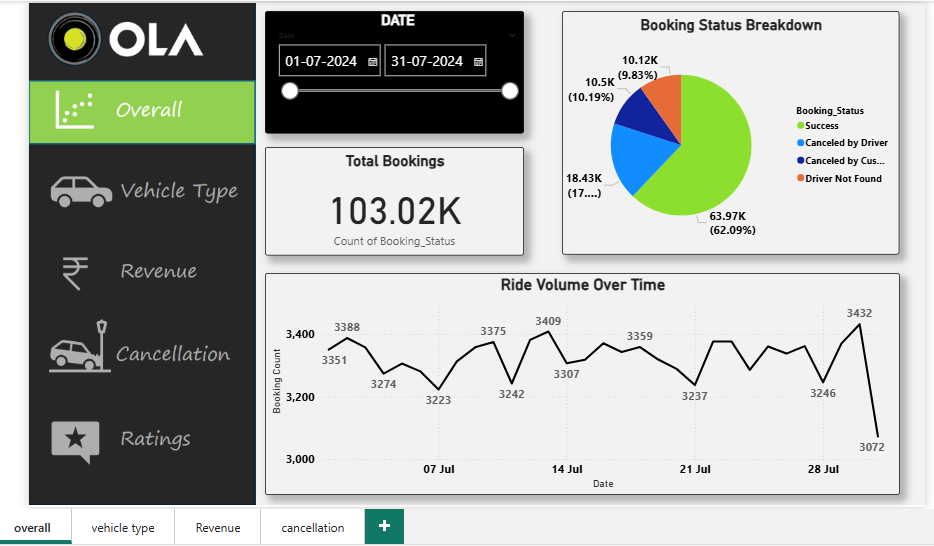

What the dashboard file says about the page in this screenshot:
{"tool":"powerbi","page":{"name":"overall","canvas":[1280,720],"ordinal":0},"visuals":[{"type":"actionButton","box":[0,221.1,323.1,92.1],"z":0},{"type":"actionButton","box":[0,338.7,323.1,92.1],"z":1000},{"type":"actionButton","box":[0,459.2,323.1,92.1],"z":2000},{"type":"actionButton","box":[0,581.1,323.1,92.1],"z":3000},{"type":"lineChart","title":"Ride Volume Over Time","fields":{"Y":["CountNonNull(OLA PROJECT DATASET CLEAN.Booking_ID)"],"Category":["OLA PROJECT DATASET CLEAN.Date"]},"box":[336.7,385,906.7,316.7],"z":4000},{"type":"pieChart","title":"Booking Status Breakdown","fields":{"Category":["OLA PROJECT DATASET CLEAN.Booking_Status"],"Y":["CountNonNull(OLA PROJECT DATASET CLEAN.Booking_Status)"]},"box":[761.7,11.7,481.7,348.3],"z":5000},{"type":"slicer","title":"DATE","fields":{"Values":["OLA PROJECT DATASET CLEAN.Date"]},"box":[336.7,11.7,370,175],"z":6000},{"type":"card","title":"Total Bookings","fields":{"Values":["CountNonNull(OLA PROJECT DATASET CLEAN.Booking_Status)"]},"box":[336.7,205,370,155],"z":7000}]}

Visuals, with their boxes on the page's 1280x720 design canvas (x1, y1, x2, y2). These are canvas units, not pixel positions in the 934x546 screenshot, which may show the page scaled, cropped or inside an application window:
actionButton: {"x1": 0, "y1": 221, "x2": 323, "y2": 313}
actionButton: {"x1": 0, "y1": 339, "x2": 323, "y2": 431}
actionButton: {"x1": 0, "y1": 459, "x2": 323, "y2": 551}
actionButton: {"x1": 0, "y1": 581, "x2": 323, "y2": 673}
"Ride Volume Over Time" lineChart: {"x1": 337, "y1": 385, "x2": 1243, "y2": 702}
"Booking Status Breakdown" pieChart: {"x1": 762, "y1": 12, "x2": 1243, "y2": 360}
"DATE" slicer: {"x1": 337, "y1": 12, "x2": 707, "y2": 187}
"Total Bookings" card: {"x1": 337, "y1": 205, "x2": 707, "y2": 360}
